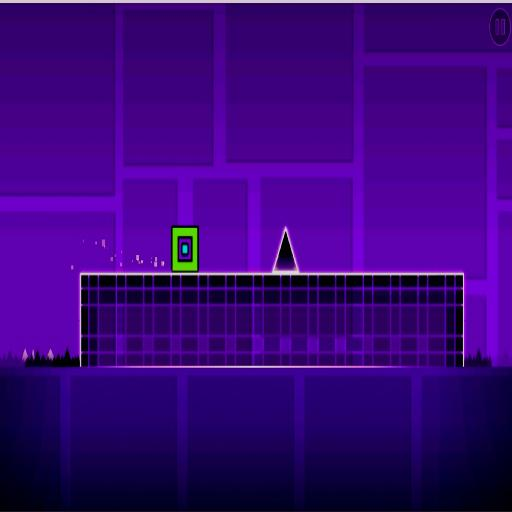block: (77, 271, 466, 377)
player: (172, 227, 198, 272)
spike: (273, 228, 298, 270), (21, 349, 28, 363), (46, 348, 52, 359), (31, 350, 34, 359)
